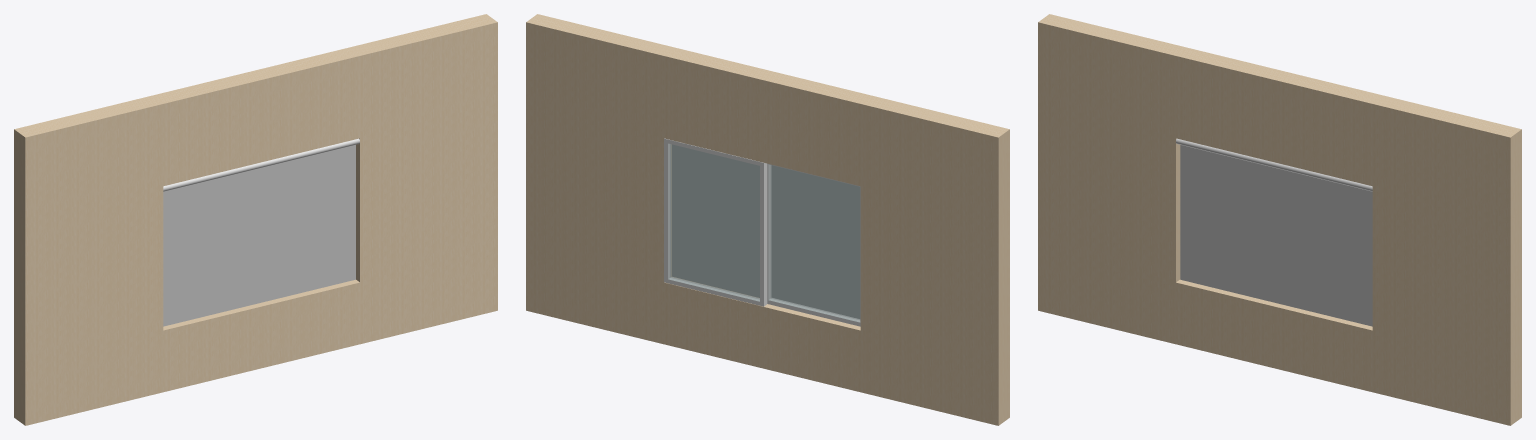
Rendered from WindowWall.fbx.
3 renders of one model, left to right at view 1: azimuth 30°, elevation 25°; view 2: azimuth 150°, elevation 25°; view 3: azimuth 330°, elevation 25°, orthographic.
Parts seen in each view (by area): view 1: Wall, Blind, Cylinder; view 2: Wall, Blind, Glass, Glass.001, Moving Frame, Stationary Frame; view 3: Wall, Blind, Cylinder.
Part boxes in pixels (x1,y1,x2,y2): Wall: (14,14,497,425); Blind: (163,145,355,326); Cylinder: (163,138,359,191); Wall: (526,14,1009,425); Blind: (672,144,859,318); Glass: (768,164,860,322); Glass.001: (668,144,759,301); Moving Frame: (664,138,767,306); Stationary Frame: (767,163,860,326); Wall: (1038,14,1521,425); Blind: (1180,145,1372,326); Cylinder: (1176,138,1372,191).
Bounding box in the file's own units: 12 × 7 × 0.5.
